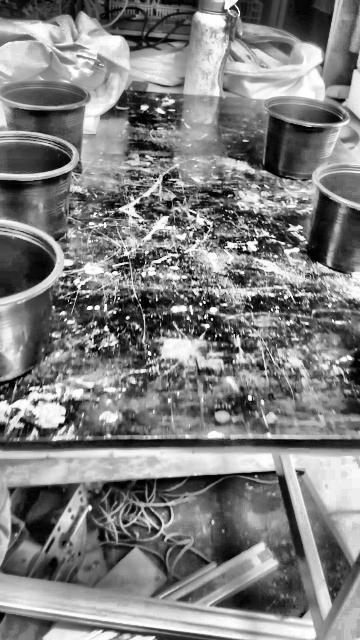pot: (1, 220, 59, 381), (0, 131, 79, 239), (263, 97, 348, 179), (0, 80, 89, 157), (309, 164, 360, 274)
